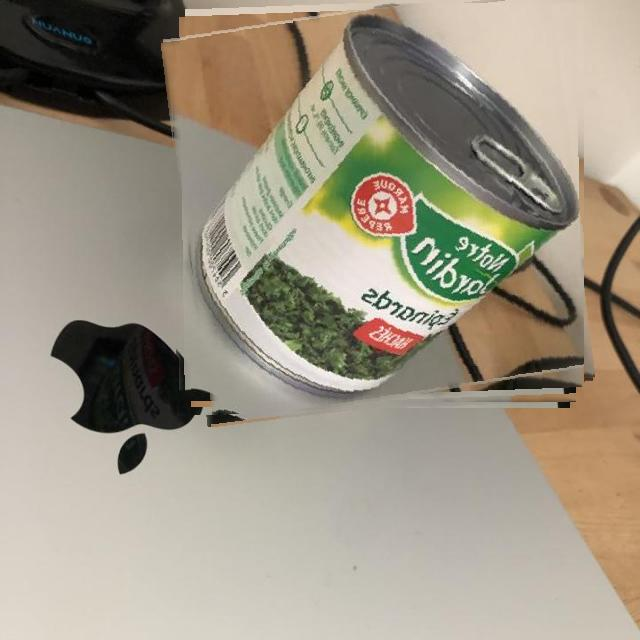recyclable: (171, 3, 584, 416)
